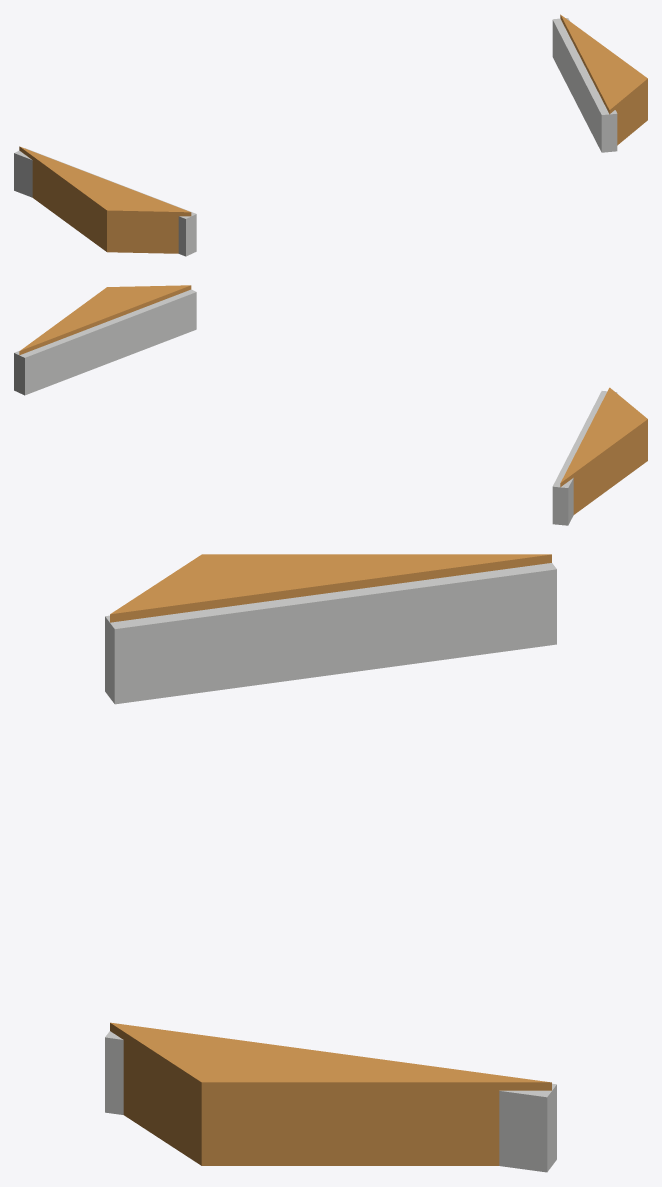
File: Rodent_Slingshots.glb
3 views of the same model, one above another, from view 1: azimuth 30°, elevation 25°; view 2: azimuth 150°, elevation 25°; view 3: azimuth 270°, elevation 25° (orthographic). The views are drawn at different scales.
Visible parts, largest first — view 1: SlingBody1, SlingBody2, Sling2, Sling1; view 2: Sling2, SlingBody1, SlingBody2, Sling1; view 3: SlingBody2, Sling1, SlingBody1, Sling2.
Boxes of the visible parts, x1,y1,x2,y2 form: SlingBody1: [19, 146, 191, 253]; SlingBody2: [560, 14, 647, 145]; Sling2: [552, 18, 617, 152]; Sling1: [14, 148, 196, 256]; Sling2: [14, 289, 196, 395]; SlingBody1: [560, 387, 647, 514]; SlingBody2: [19, 285, 191, 355]; Sling1: [552, 391, 617, 525]; SlingBody2: [110, 1022, 551, 1165]; Sling1: [105, 563, 556, 704]; SlingBody1: [110, 554, 551, 622]; Sling2: [105, 1031, 556, 1172].
Size of the model in its own units: 0.3887 by 0.028 by 0.1373.
